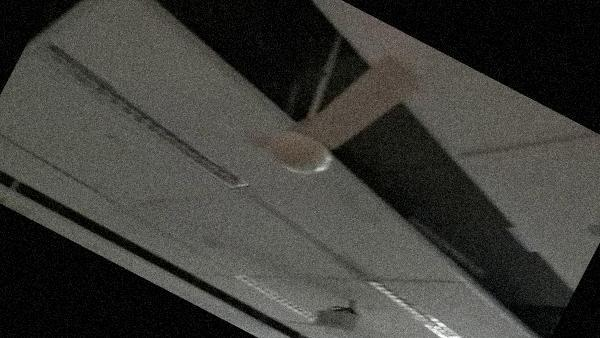light_off: (15, 25, 278, 209), (323, 237, 489, 338), (222, 258, 329, 338)
